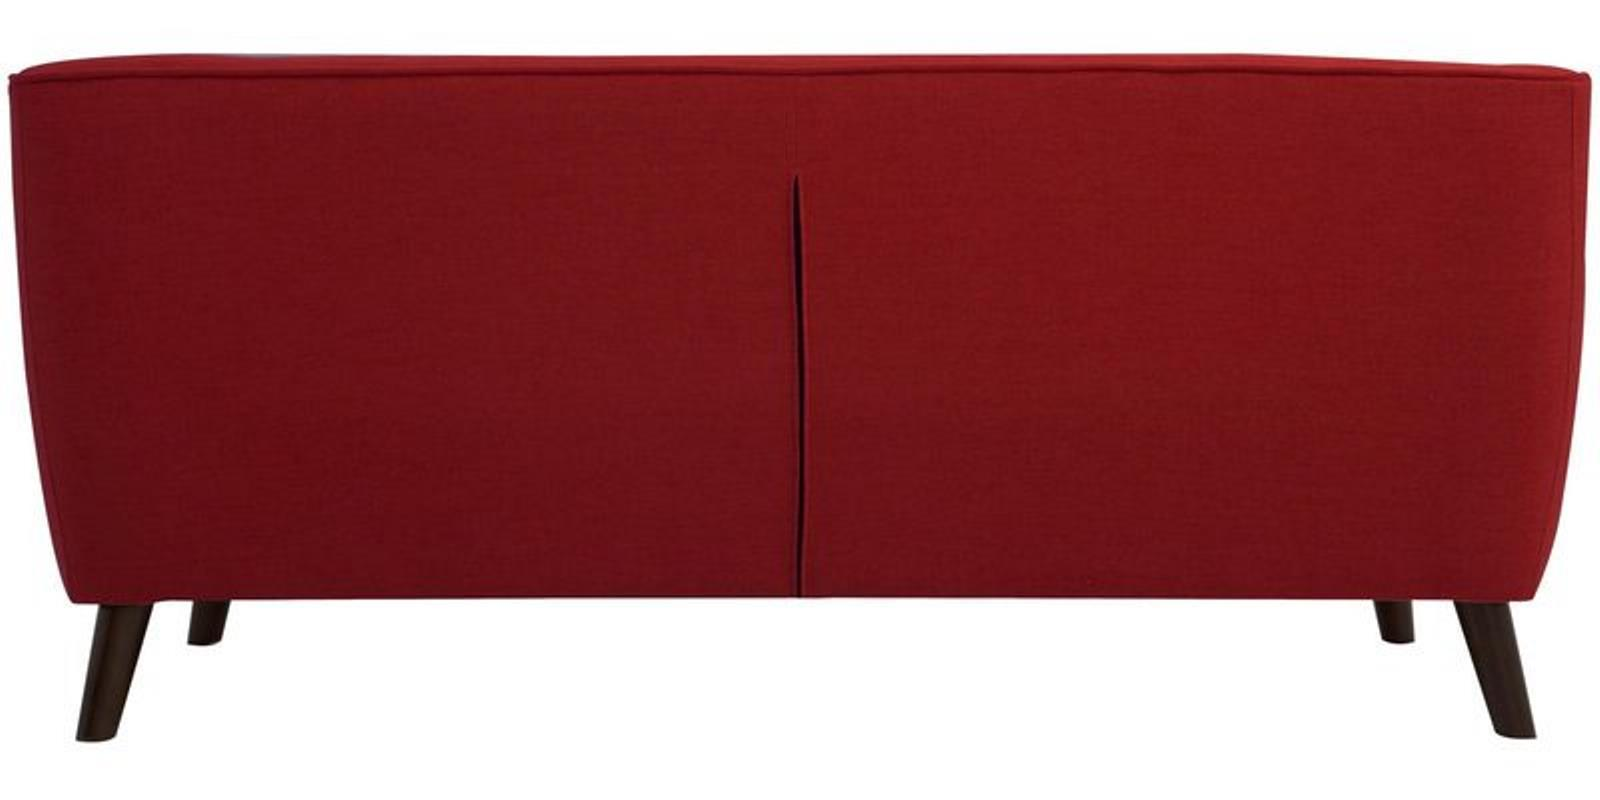Bogota Three Seater Sofa in Red Colour by CasaCraft: (12, 46, 1592, 741)
